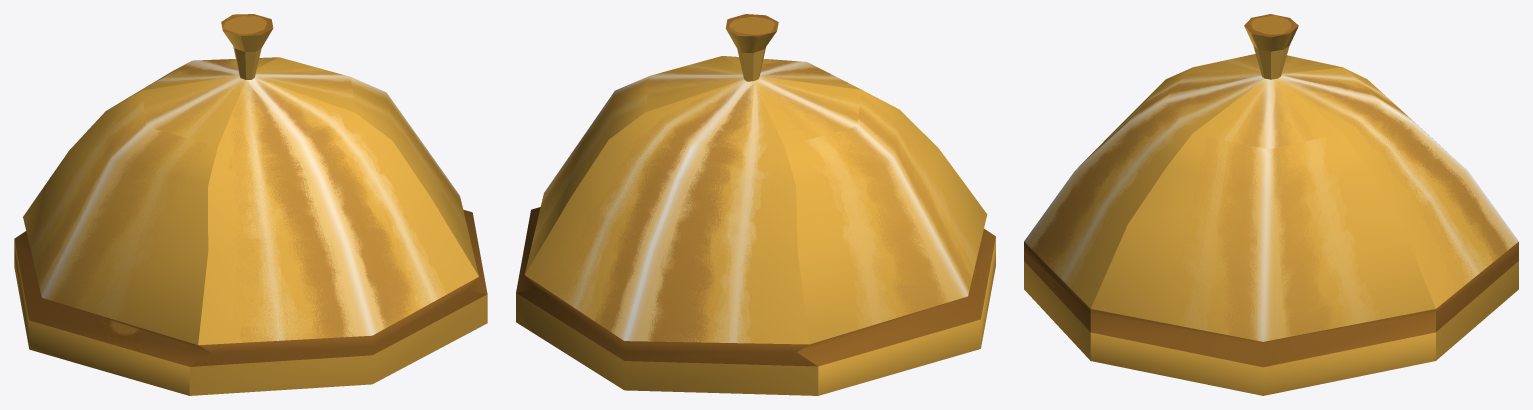
The model's file is Campanita.fbx.
3 renders of one model, left to right at view 1: azimuth 30°, elevation 25°; view 2: azimuth 150°, elevation 25°; view 3: azimuth 270°, elevation 25°, orthographic. The views are drawn at different scales.
Visible parts, largest first — view 1: Campanita; view 2: Campanita; view 3: Campanita.
Part boxes in pixels (<box>): Campanita: <box>14,14,487,395</box>; Campanita: <box>516,14,995,395</box>; Campanita: <box>1024,14,1518,395</box>.
Size of the model in its own units: 1.74 by 1 by 1.7.
